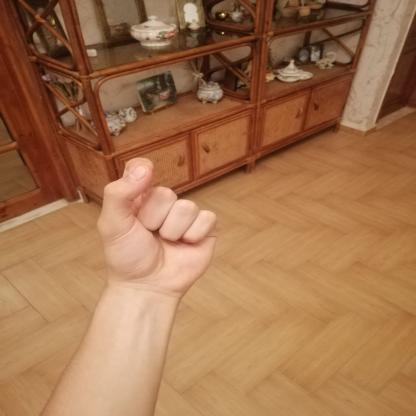FAA: (84, 147, 232, 306)
